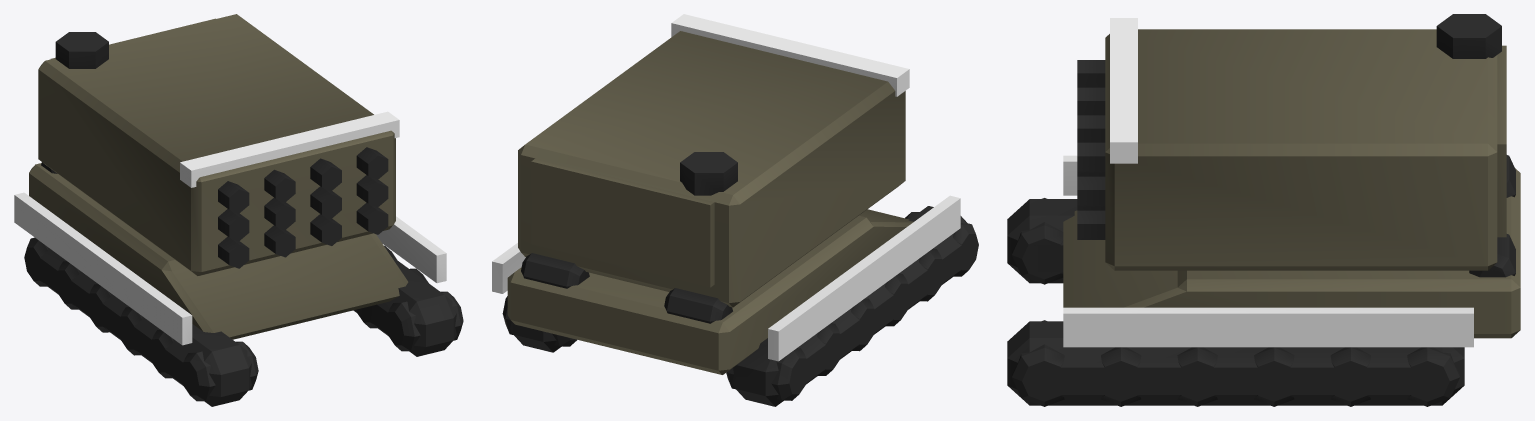
File: ru-tos-1a.glb
3 renders of one model, left to right at view 1: azimuth 30°, elevation 25°; view 2: azimuth 150°, elevation 25°; view 3: azimuth 270°, elevation 25°, orthographic. The views are drawn at different scales.
Visible parts, largest first — view 1: turret, ru-tos-1a; view 2: turret, ru-tos-1a; view 3: turret, ru-tos-1a.
Part boxes in pixels (x1=…): turret: x1=38, y1=14, x2=399, y2=275; ru-tos-1a: x1=14, y1=162, x2=463, y2=406; turret: x1=518, y1=14, x2=909, y2=307; ru-tos-1a: x1=492, y1=195, x2=978, y2=406; turret: x1=1077, y1=14, x2=1506, y2=270; ru-tos-1a: x1=1007, y1=155, x2=1520, y2=406.
Size of the model in its own units: 0.8 by 0.64 by 1.1.
